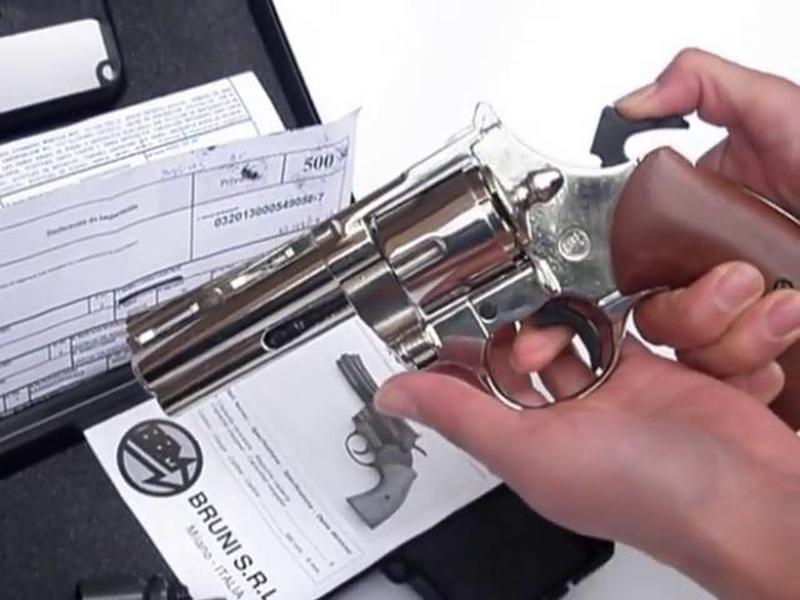Revolver: (138, 72, 800, 433)
